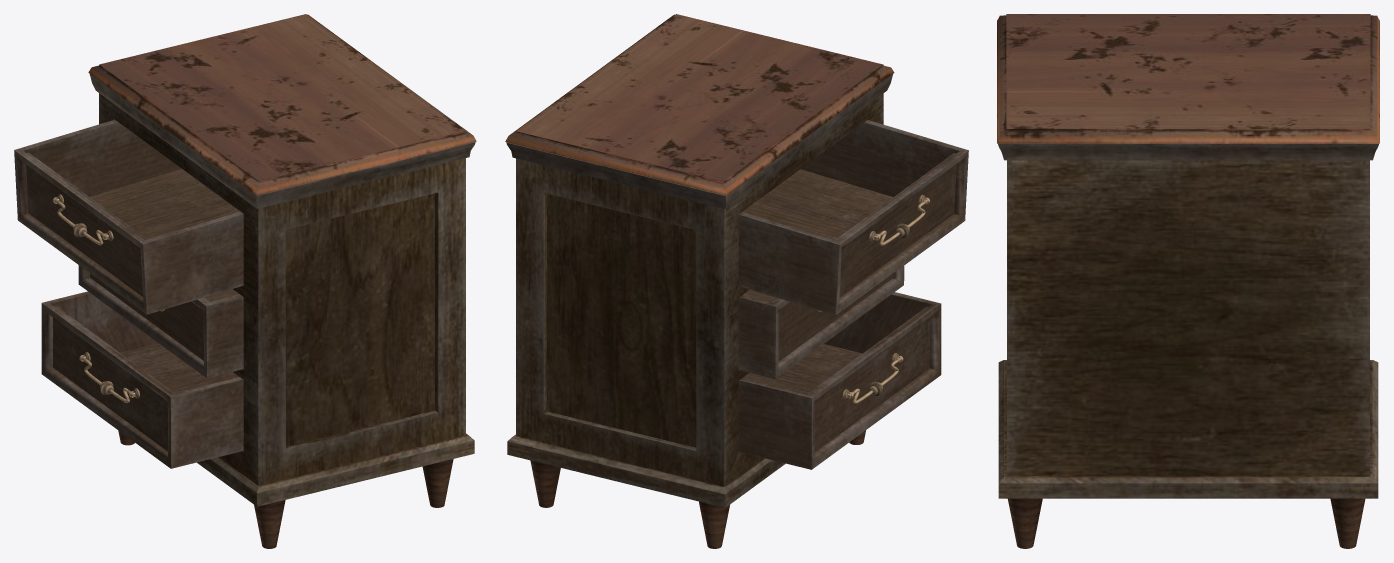
3 views of the same model, side by side, from view 1: azimuth 30°, elevation 25°; view 2: azimuth 150°, elevation 25°; view 3: azimuth 270°, elevation 25° (orthographic). The views are drawn at different scales.
Parts seen in each view (by area): view 1: frame_low, table_low, box_low.1, box_low.3, box_low.2, frameTOP_low, lags_low, handle_low.1, handle_low.3; view 2: frame_low, table_low, box_low.1, box_low.3, box_low.2, frameTOP_low, lags_low, handle_low.1, handle_low.3; view 3: frame_low, table_low, frameTOP_low, lags_low.
Part boxes in pixels (<box>): frame_low: <box>99,93,474,506</box>; table_low: <box>88,14,476,195</box>; box_low.1: <box>14,119,243,314</box>; box_low.3: <box>41,291,243,468</box>; box_low.2: <box>78,265,243,378</box>; frameTOP_low: <box>89,74,475,208</box>; lags_low: <box>118,430,453,548</box>; handle_low.1: <box>52,194,113,245</box>; handle_low.3: <box>79,352,139,402</box>; frame_low: <box>507,93,883,507</box>; table_low: <box>505,14,894,195</box>; box_low.1: <box>738,120,968,315</box>; box_low.3: <box>738,292,941,469</box>; box_low.2: <box>738,266,904,379</box>; frameTOP_low: <box>506,74,892,209</box>; lags_low: <box>530,430,865,548</box>; handle_low.1: <box>869,194,929,245</box>; handle_low.3: <box>842,353,903,403</box>; frame_low: <box>998,160,1378,498</box>; table_low: <box>997,14,1379,143</box>; frameTOP_low: <box>998,143,1378,160</box>; lags_low: <box>1008,498,1365,548</box>.
Size of the model in its own units: 4.66 by 5.24 by 4.25.
Materials: 1 (1 with a texture image).
